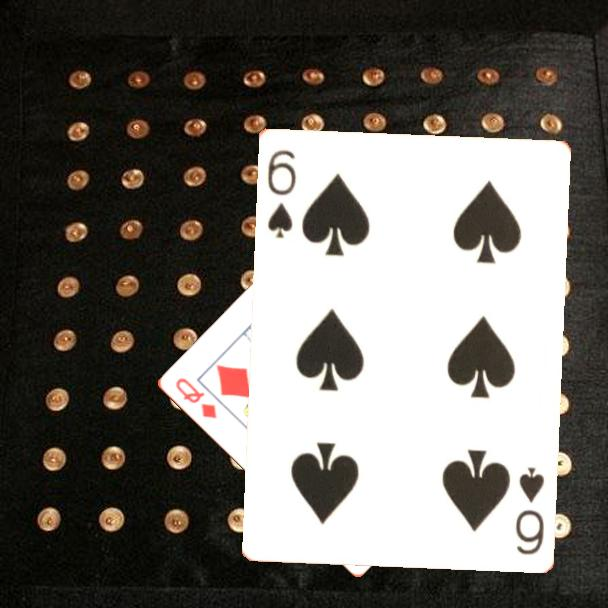d12: (171, 374, 219, 422)
s06: (263, 145, 299, 241), (511, 463, 547, 557)
